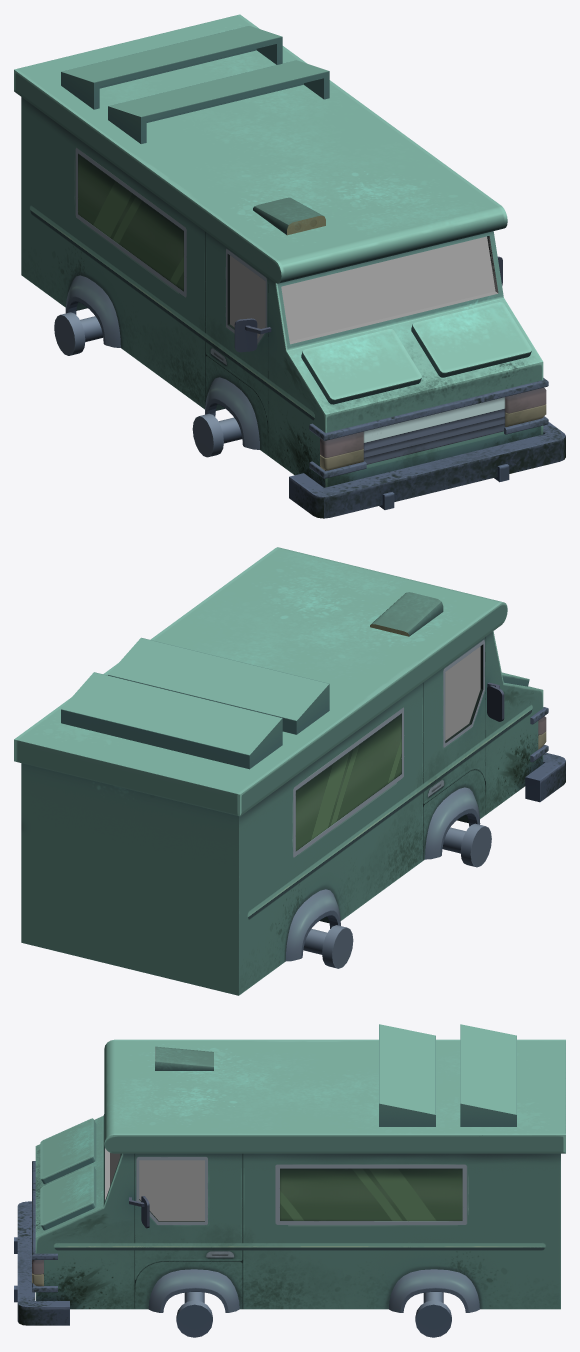
File: Vehicle.fbx
3 views of the same model, one above another, from view 1: azimuth 30°, elevation 25°; view 2: azimuth 150°, elevation 25°; view 3: azimuth 270°, elevation 25° (orthographic). The views are drawn at different scales.
Parts seen in each view (by area): view 1: polySurface3, pCube146, Windows1, Van_pCube155, pCube147, pCube163, pCube162, pCube151, polySurface7, polySurface4, Windows2, pCylinder42 (+6 smaller); view 2: polySurface3, pCube146, pCube163, pCube147, Windows2, pCube150, pCylinder29, pCylinder42, Van_pCube155, pCylinder34, pCylinder47, pCube167; view 3: polySurface3, pCube146, pCube147, pCube163, Windows3, Van_pCube155, pCube162, pCube151, pCylinder44, pCylinder43, pCube150, pCylinder45 (+3 smaller).
Part boxes in pixels (x1,y1,x2,y2): polySurface3: (21, 97, 543, 487); pCube146: (14, 14, 507, 283); Windows1: (281, 236, 498, 344); Van_pCube155: (289, 422, 565, 518); pCube147: (108, 60, 329, 143); pCube163: (61, 26, 282, 109); pCube162: (411, 302, 531, 377); pCube151: (301, 329, 421, 404); polySurface7: (320, 387, 546, 470); polySurface4: (309, 378, 548, 440); Windows2: (230, 255, 265, 338); pCylinder42: (65, 275, 120, 347); polySurface3: (21, 631, 543, 995); pCube146: (14, 547, 507, 816); pCube163: (61, 672, 282, 769); pCube147: (108, 637, 329, 734); Windows2: (445, 646, 480, 740); pCube150: (370, 592, 443, 636); pCylinder29: (425, 787, 480, 859); pCylinder42: (285, 889, 340, 961); Van_pCube155: (525, 752, 565, 802); pCylinder34: (460, 823, 491, 867); pCylinder47: (322, 925, 353, 968); pCube167: (487, 682, 504, 721); polySurface3: (35, 1114, 560, 1309); pCube146: (104, 1039, 565, 1153); pCube147: (379, 1024, 435, 1126); pCube163: (460, 1024, 516, 1126); Windows3: (139, 1160, 204, 1221); Van_pCube155: (14, 1201, 69, 1325); pCube162: (40, 1164, 96, 1230); pCube151: (40, 1118, 96, 1183); pCylinder44: (148, 1269, 239, 1312); pCylinder43: (388, 1269, 479, 1312); pCube150: (155, 1046, 213, 1070); pCylinder45: (176, 1300, 212, 1337).
Size of the model in its own units: 363 by 312 by 724.
